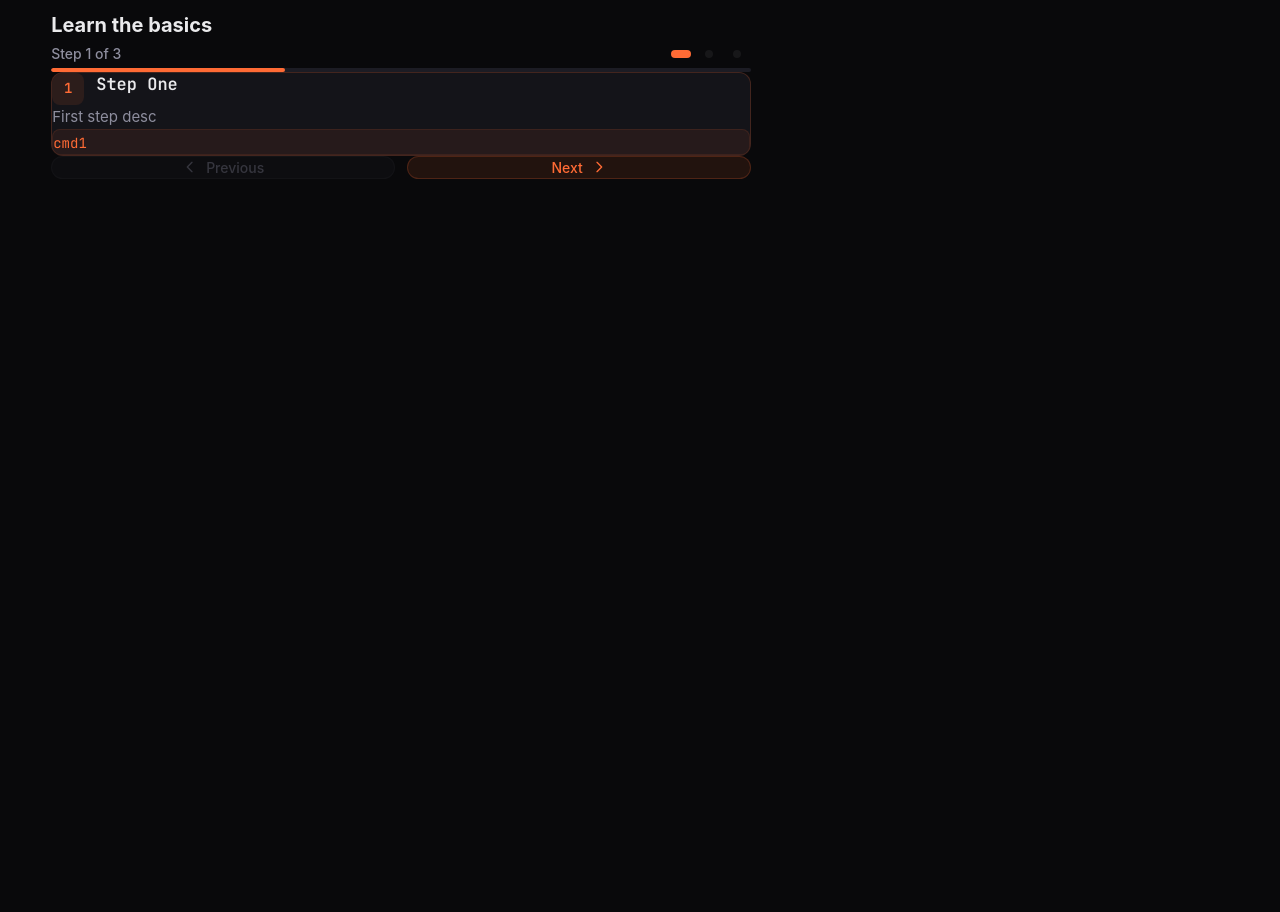
Test: StepThrough › shows completion when all steps visited
Click the button "Next". click: x=579, y=167
box: [407, 156, 751, 179]
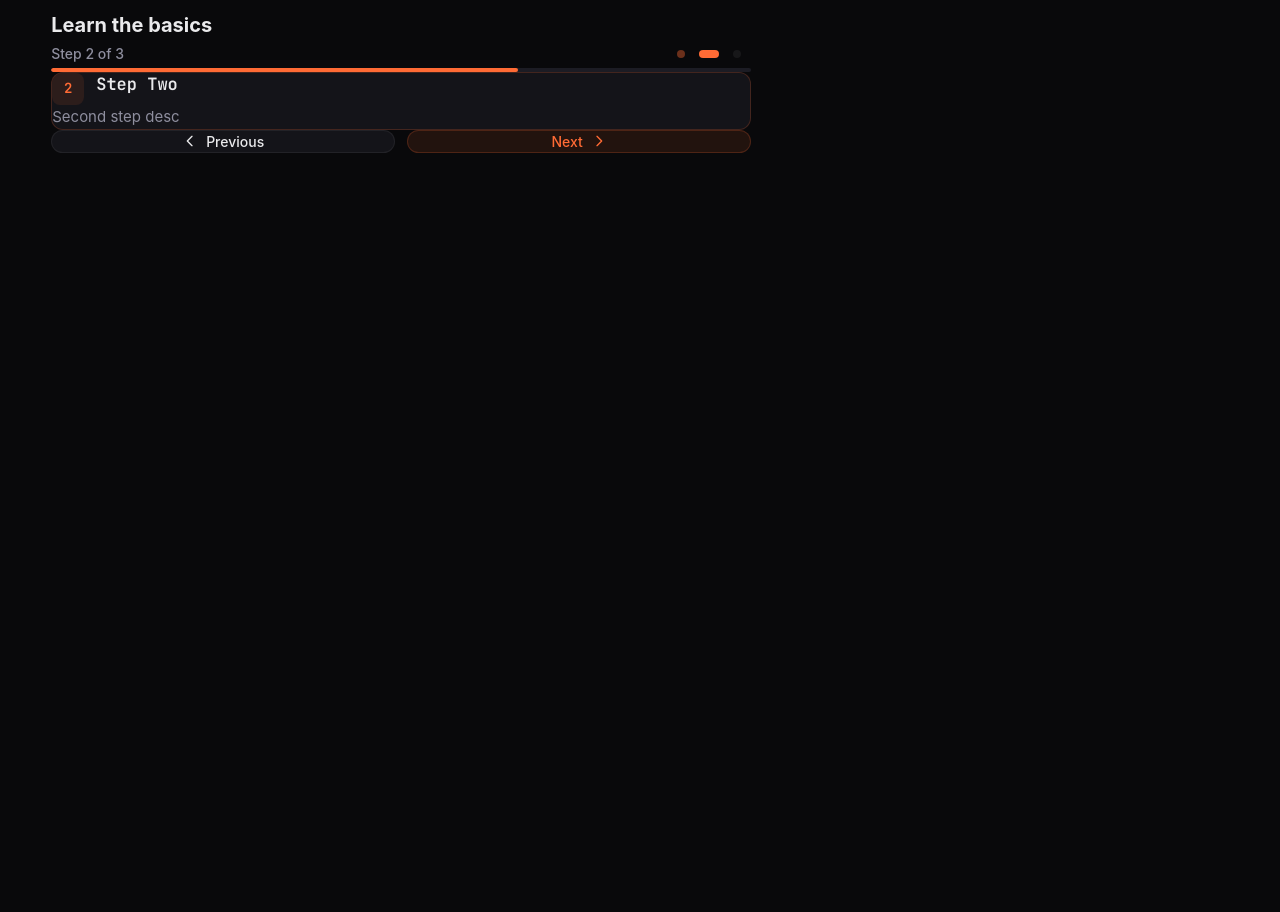
Click the button "Next". click: x=579, y=141
box: [407, 130, 751, 153]
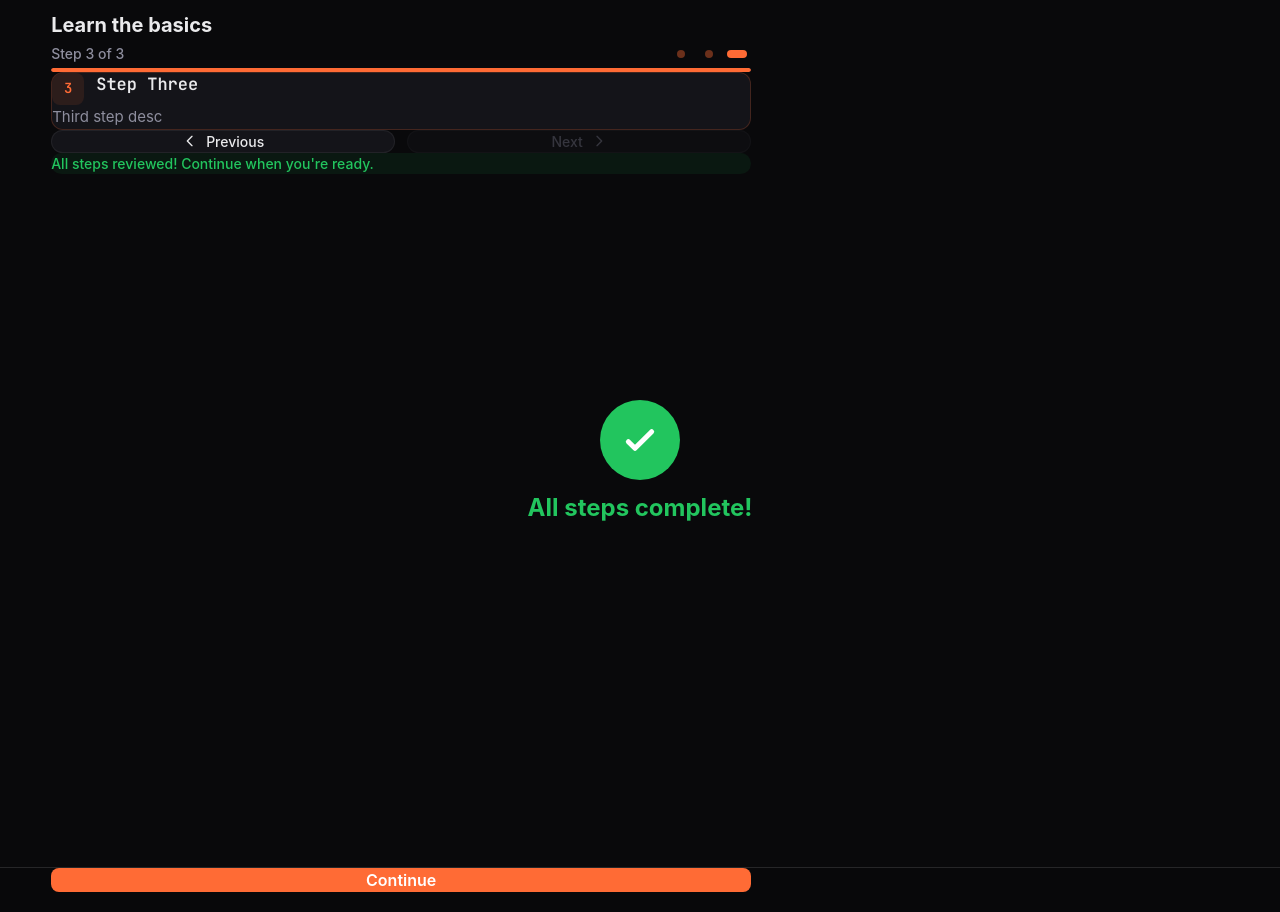
Expected: the text "All steps reviewed! Continue when you're ready." is shown, [51, 155, 374, 172]
